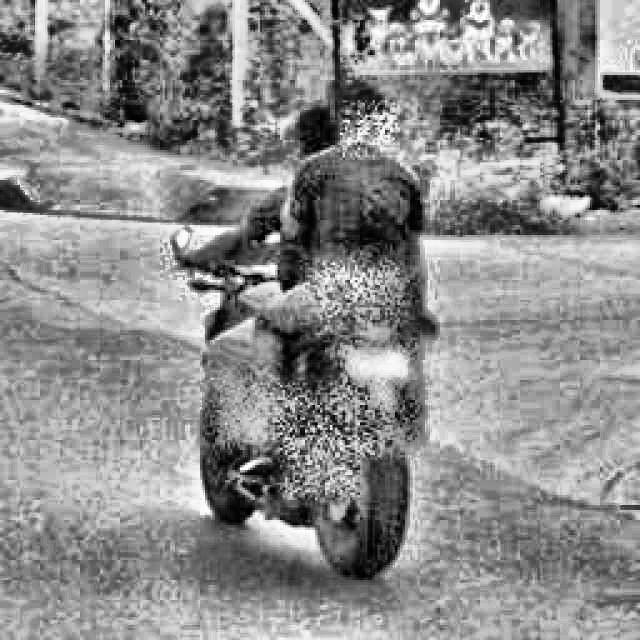motorcycle: (164, 215, 466, 583)
